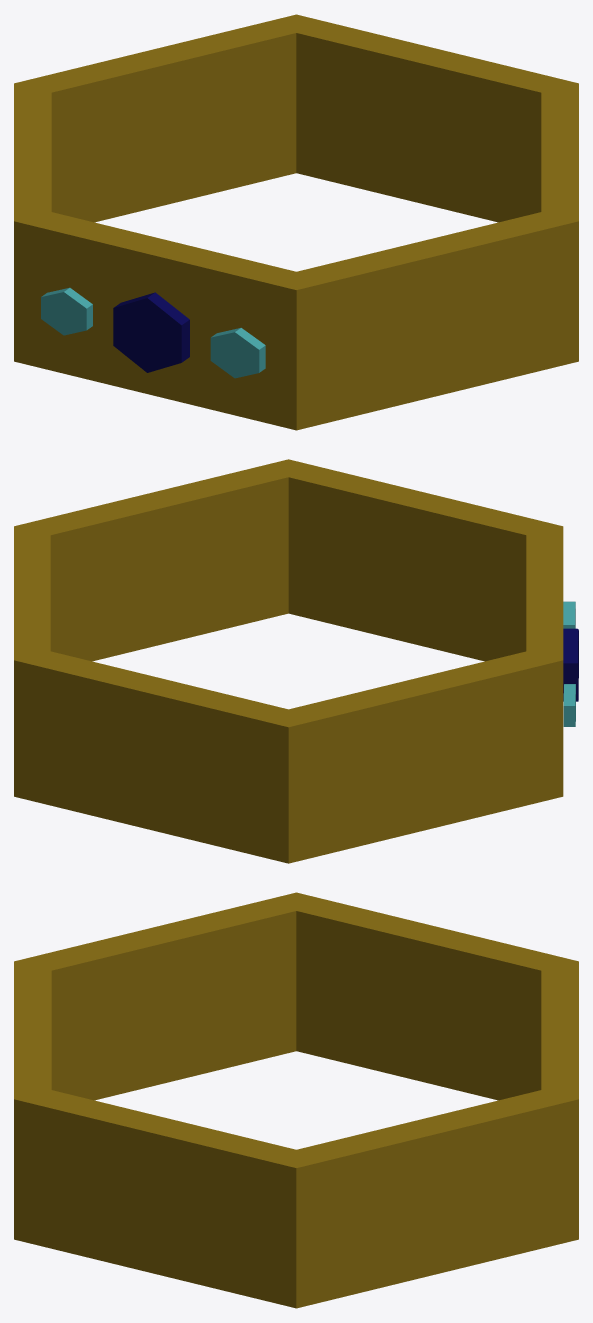
Rendered from Ring.fbx.
3 renders of one model, top to bottom at view 1: azimuth 30°, elevation 25°; view 2: azimuth 150°, elevation 25°; view 3: azimuth 270°, elevation 25°, orthographic. The views are drawn at different scales.
Visible parts, largest first — view 1: Cylinder002; view 2: Cylinder002; view 3: Cylinder002.
Part boxes in pixels (x1=…): Cylinder002: x1=14, y1=14, x2=578, y2=430; Cylinder002: x1=14, y1=459, x2=578, y2=863; Cylinder002: x1=14, y1=892, x2=578, y2=1308.
Bounding box in the file's own units: 4.61 × 1.09 × 3.99.
